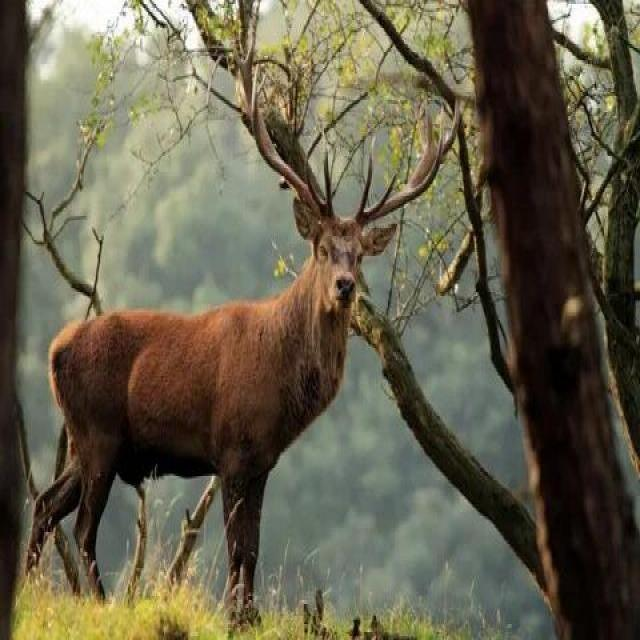deer: (52, 155, 437, 570)
